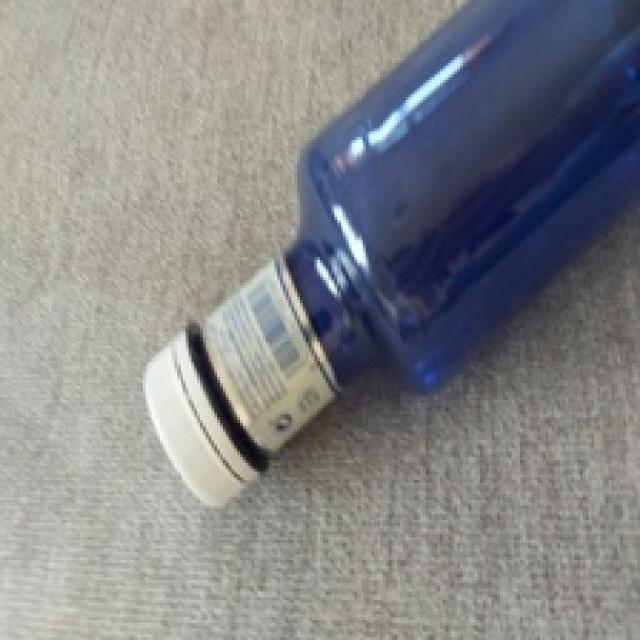Plastic: (143, 0, 640, 516)
